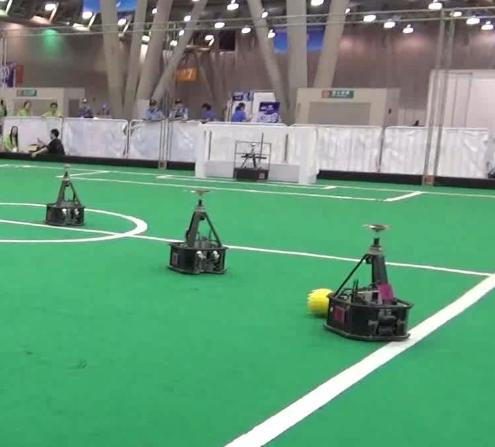robot: (322, 219, 415, 344), (167, 184, 229, 279), (39, 159, 91, 228)
